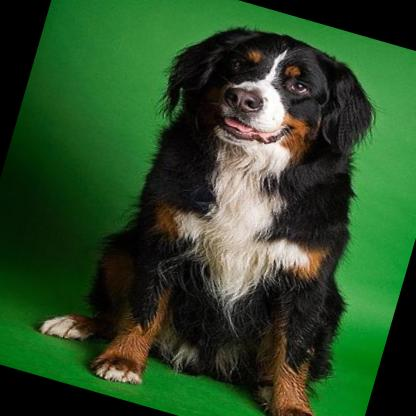Bernese_mountain_dog: (24, 0, 416, 416)
